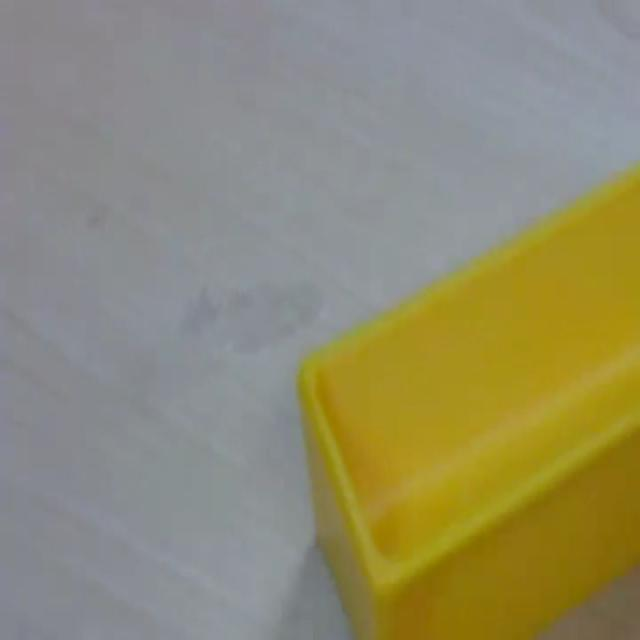yellow_block: (295, 161, 638, 636)
